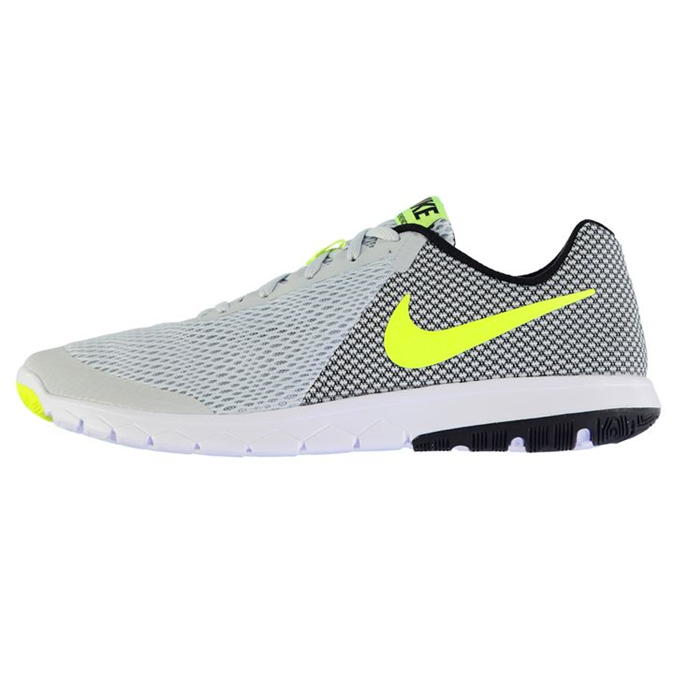nike: (386, 284, 601, 370)
